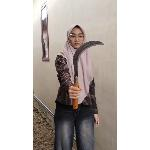Celurit: (68, 38, 108, 112)
